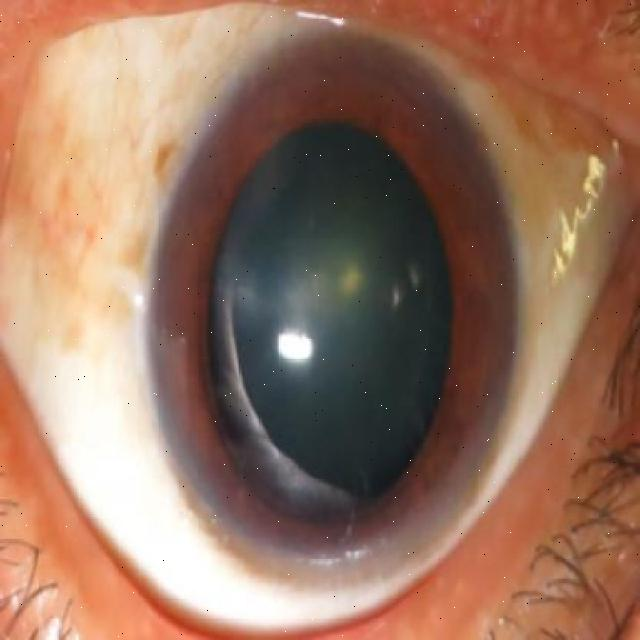Cataract: (151, 24, 522, 590)
